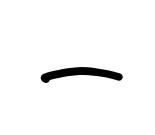minus: (40, 66, 123, 83)
